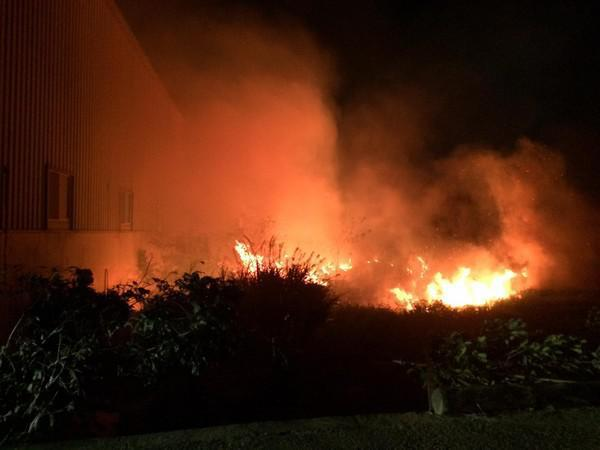fire: (215, 224, 528, 317)
